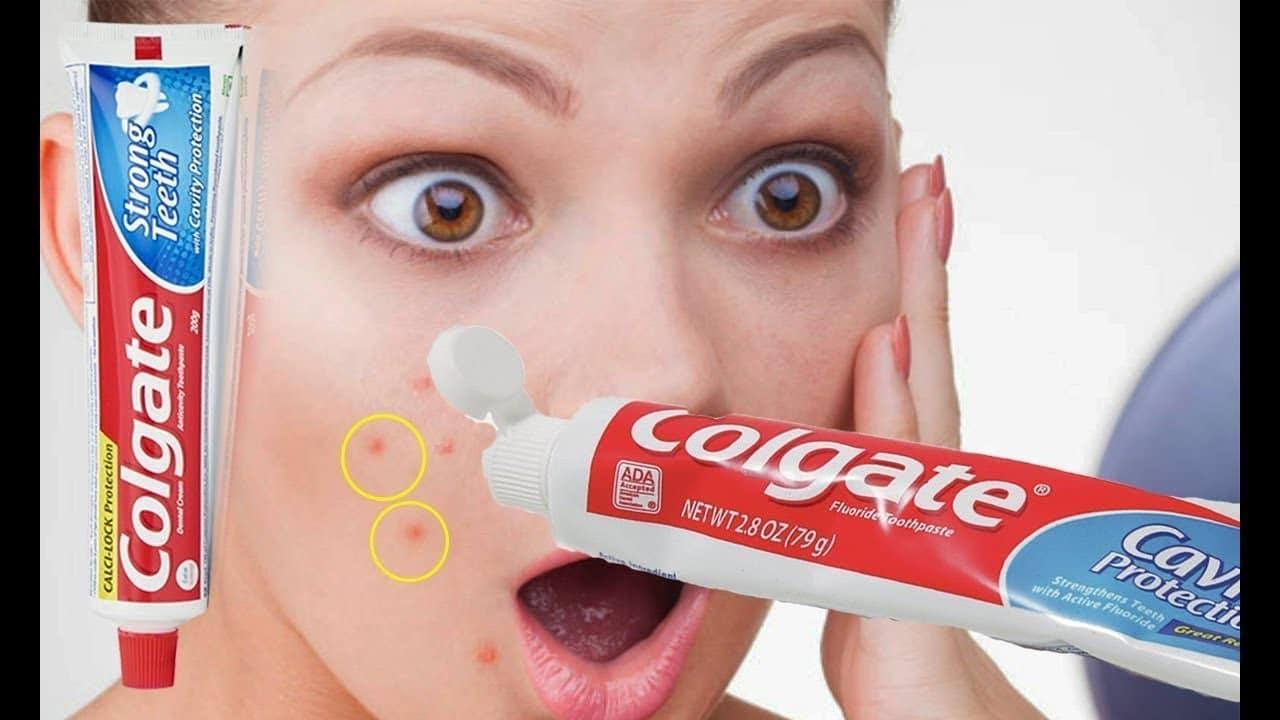toothpaste: (442, 305, 1280, 719), (56, 13, 253, 694)
